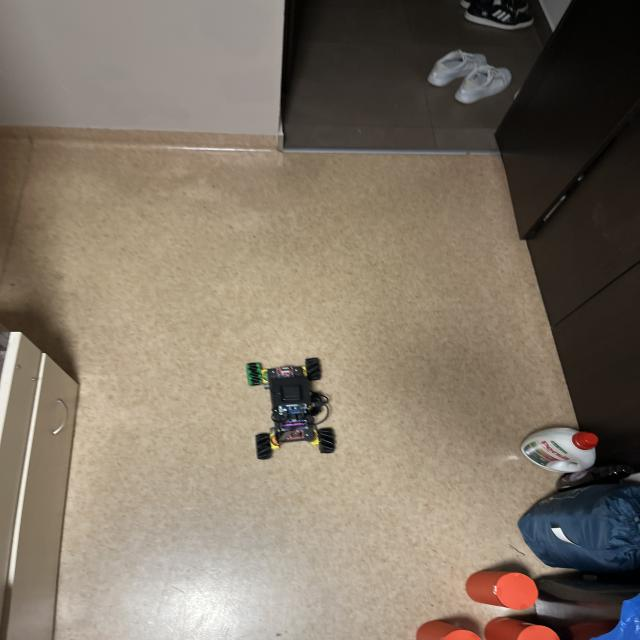robot: (246, 358, 335, 460)
